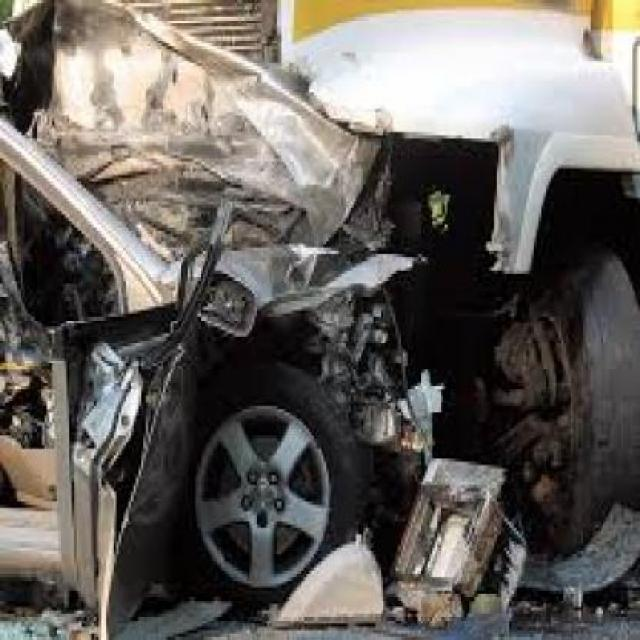accident: (0, 0, 631, 618)
